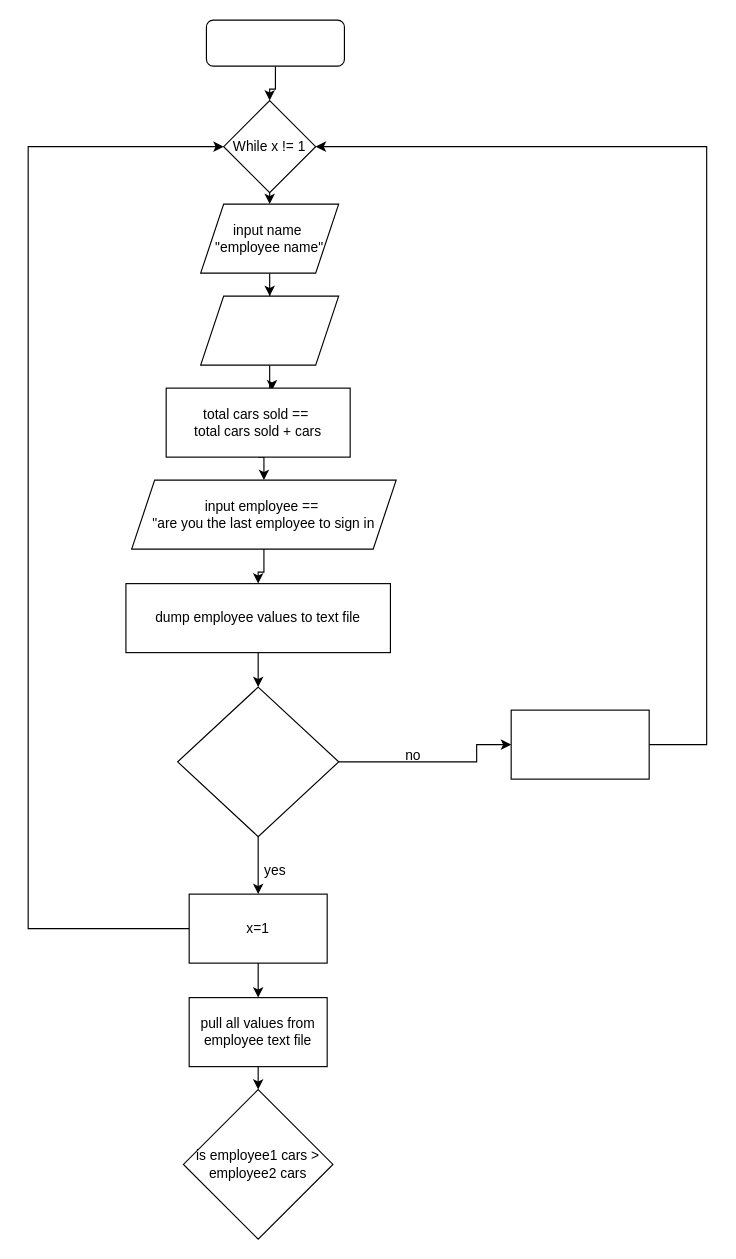
The diagram is 736 pixels wide and 1259 high, and some of its shapes have lost their labels. Here are the shapes that lost their labels. From the top down, the box of each, then its label:
(205, 19, 344, 66): start
(200, 295, 339, 365): input cars "cars sold "
(177, 686, 339, 837): does employee = yes
(510, 709, 649, 779): x=0
